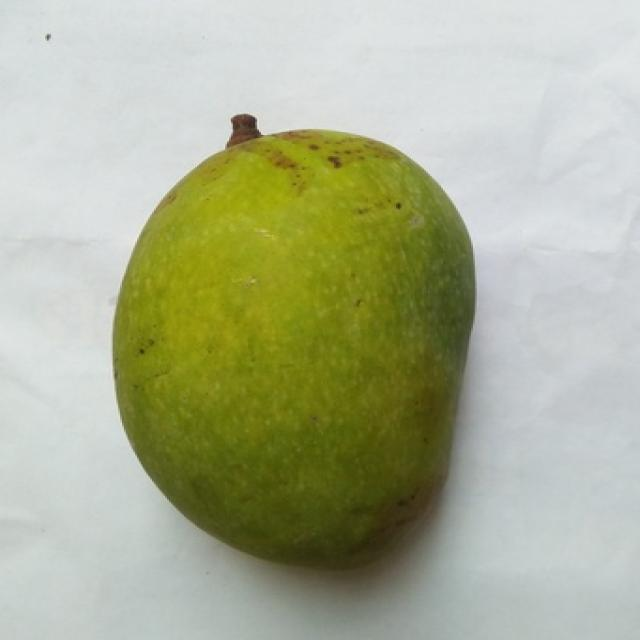Mango: (114, 130, 473, 563)
